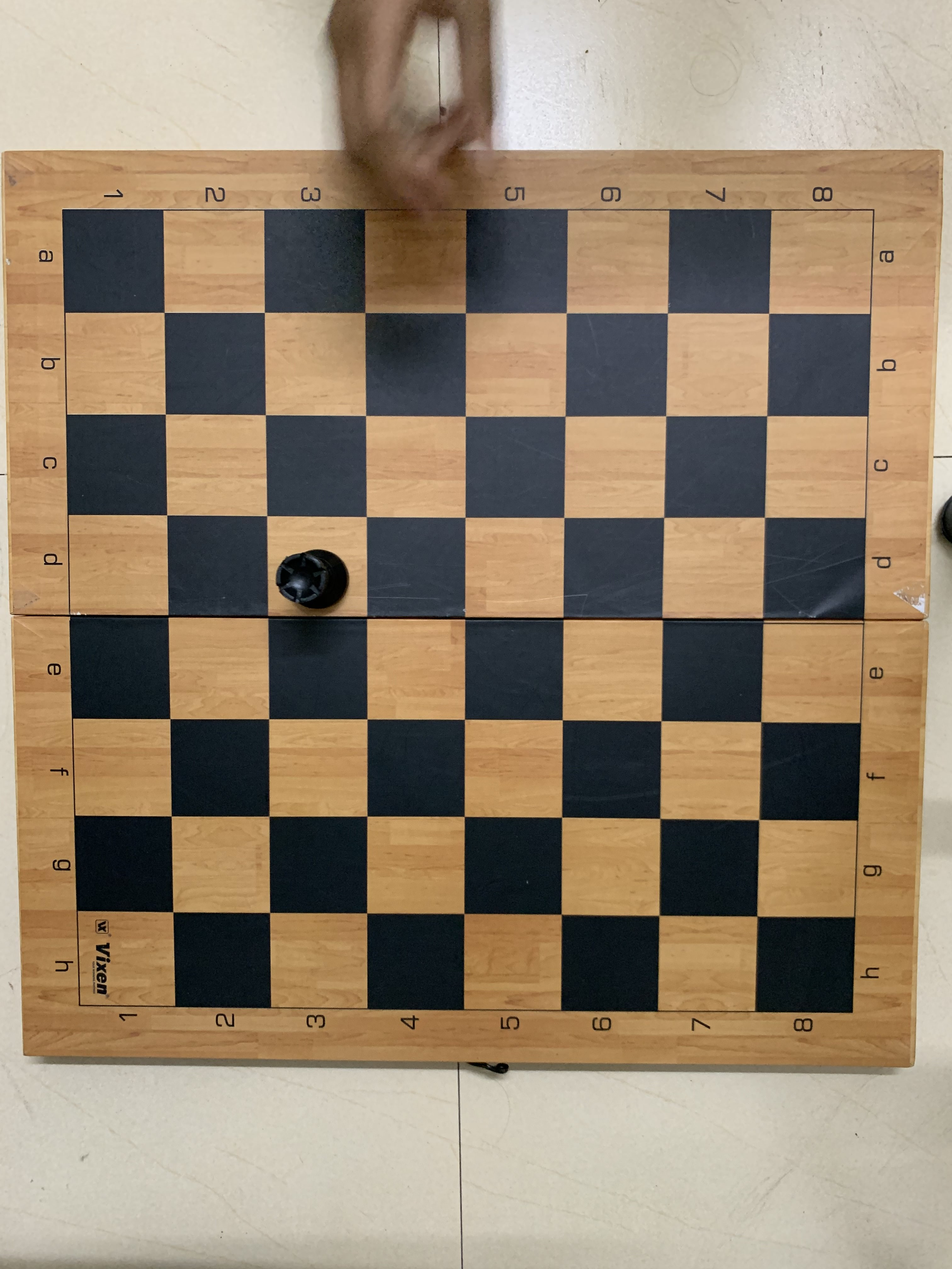black_rook: (265, 522, 370, 617)
